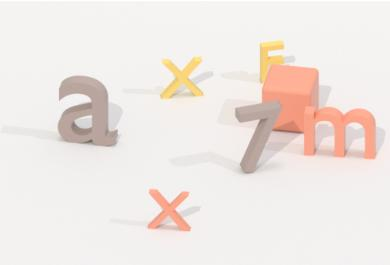0-KhoiVuong: (260, 61, 323, 137)
7: (228, 100, 282, 177)
F: (254, 35, 288, 87)
X: (144, 182, 194, 236), (154, 54, 206, 104)
a: (53, 72, 123, 152)
m: (300, 103, 381, 164)
